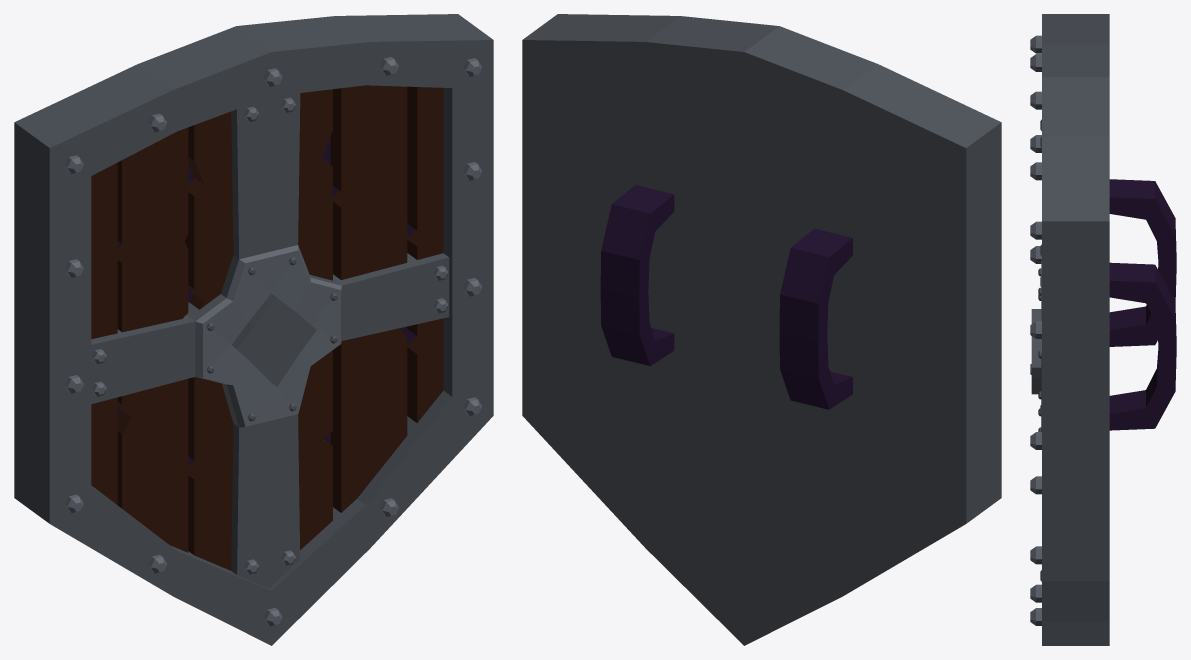
Rendered from Shield_Heater.glb.
The picture shows the model from 3 angles, left to right: view 1: azimuth 30°, elevation 25°; view 2: azimuth 150°, elevation 25°; view 3: azimuth 270°, elevation 25°; orthographic projection. The views are drawn at different scales.
Parts seen in each view (by area): view 1: Shield_Heater; view 2: Shield_Heater; view 3: Shield_Heater.
Boxes of the visible parts, x1=… form: Shield_Heater: x1=14, y1=14, x2=493, y2=645; Shield_Heater: x1=522, y1=14, x2=1001, y2=645; Shield_Heater: x1=1030, y1=14, x2=1176, y2=645.
Size of the model in its own units: 0.4067 by 0.52 by 0.1211.
